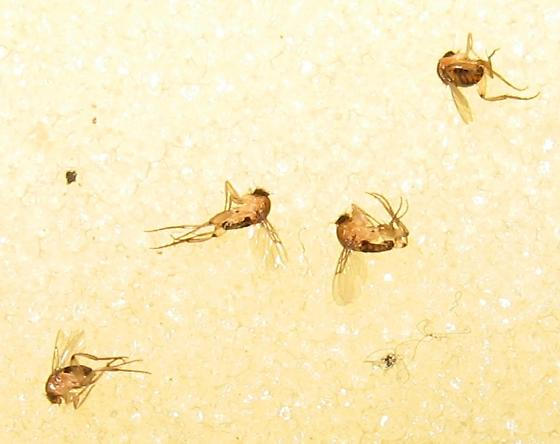phorid fly: (141, 168, 303, 282), (318, 176, 437, 316), (422, 23, 549, 130), (30, 325, 157, 416)
